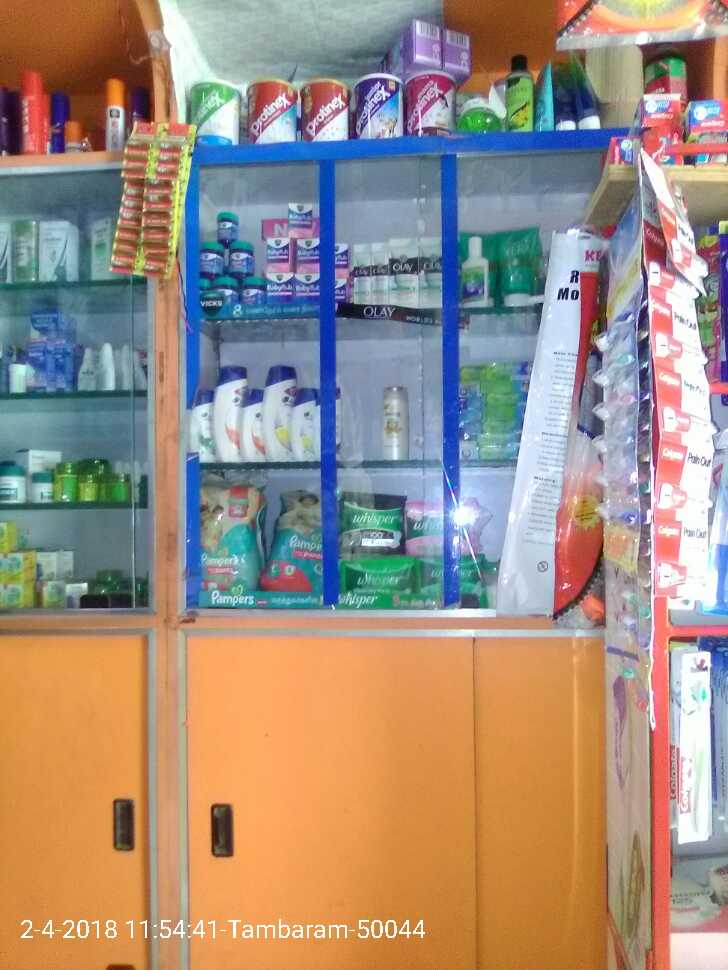vicks: (192, 199, 349, 302)
